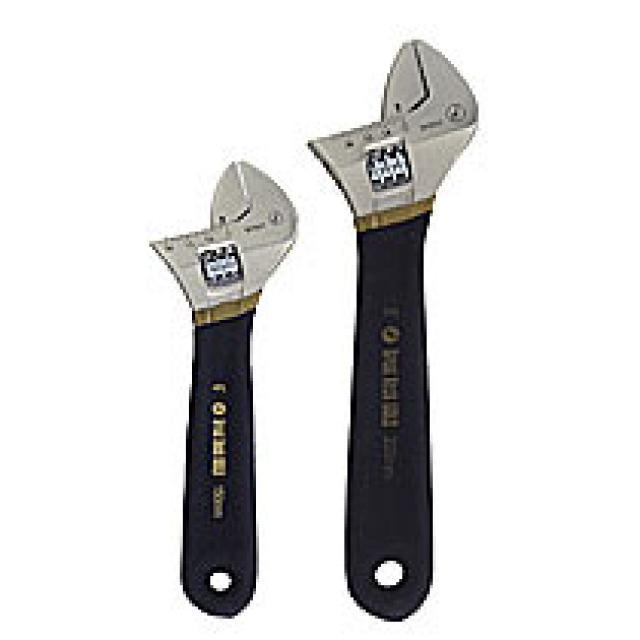wrench: (300, 30, 485, 628), (141, 152, 307, 626)
